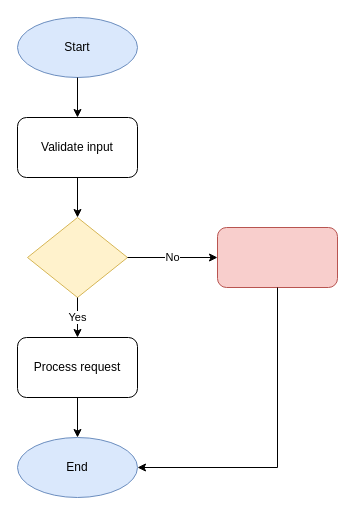
Image size: 355x515. Some labels were removed from this diagram. The shapes that lost their labels are listed below. From the top down, each one's centre as x and y in pixels, then its label:
At (x=77, y=257): "Valid?".
At (x=277, y=257): "Return error".
